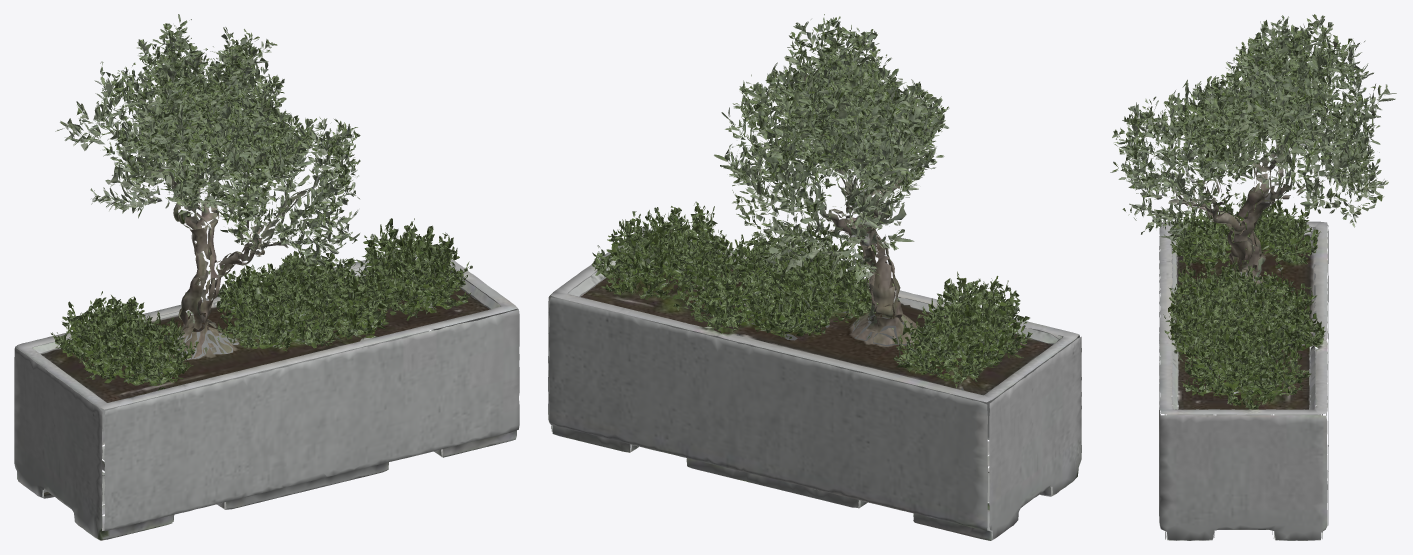
Rendered from planter.glb.
3 views of the same model, side by side, from view 1: azimuth 30°, elevation 25°; view 2: azimuth 150°, elevation 25°; view 3: azimuth 270°, elevation 25° (orthographic). The views are drawn at different scales.
Size of the model in its own units: 1.9 by 1.88 by 1.19.
1 material, 1 textured.
